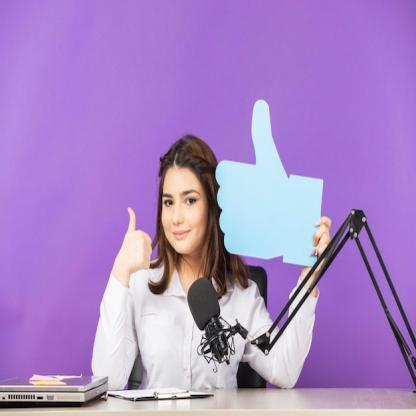thumb_up: (116, 202, 154, 274)
